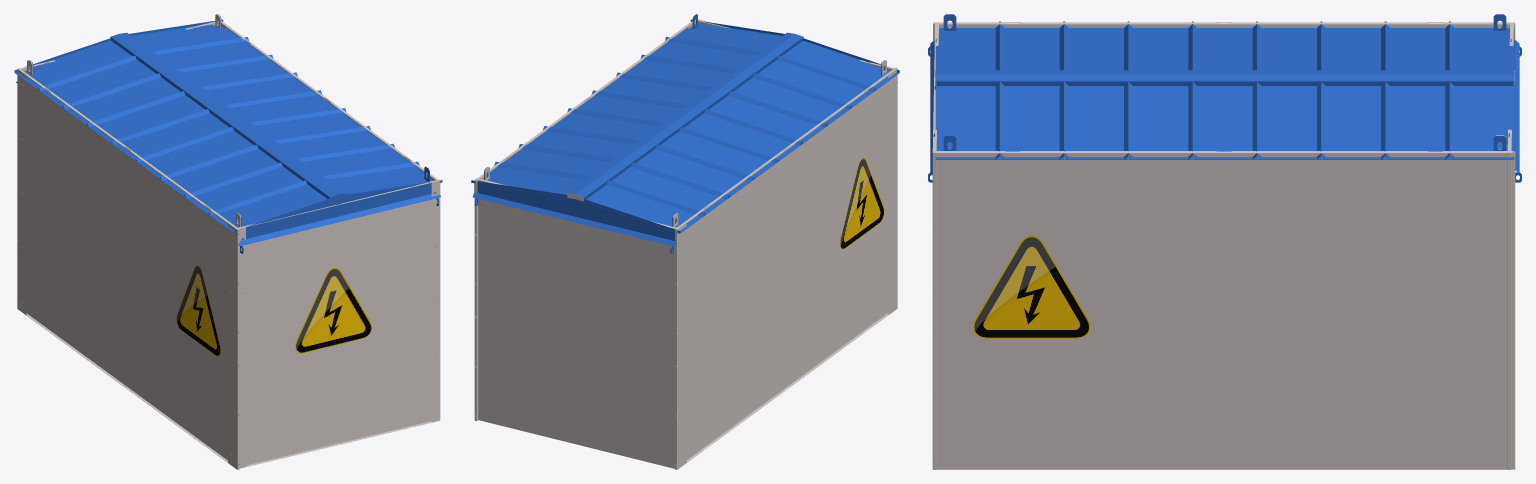
3 views of the same model, side by side, from view 1: azimuth 30°, elevation 25°; view 2: azimuth 150°, elevation 25°; view 3: azimuth 270°, elevation 25° (orthographic). The views are drawn at different scales.
Parts seen in each view (by area): view 1: Mesh.001, roof, Mesh.002, Plane, Plane.009, Mesh.003; view 2: Mesh.001, roof, Mesh.004, Plane.009, Mesh.003; view 3: Mesh.003, roof, Plane.008, Mesh.001, Mesh.002, Mesh.004.
Boxes of the visible parts, box(x1,y1,x2,y2) form: Mesh.001: box(17, 68, 239, 469); roof: box(14, 14, 442, 253); Mesh.002: box(236, 179, 440, 468); Plane: box(295, 267, 372, 353); Plane.009: box(176, 264, 220, 356); Mesh.003: box(218, 20, 438, 180); Mesh.001: box(675, 67, 897, 469); roof: box(471, 14, 899, 253); Mesh.004: box(476, 178, 677, 468); Plane.009: box(840, 157, 884, 249); Mesh.003: box(474, 19, 695, 420); Mesh.003: box(933, 151, 1515, 469); roof: box(928, 14, 1521, 182); Plane.008: box(973, 235, 1090, 338); Mesh.001: box(933, 22, 1515, 41); Mesh.002: box(932, 23, 938, 469); Mesh.004: box(1507, 22, 1513, 469).
Bounding box in the file's own units: 2.48 × 2.84 × 4.62.
3 materials, 1 textured.
